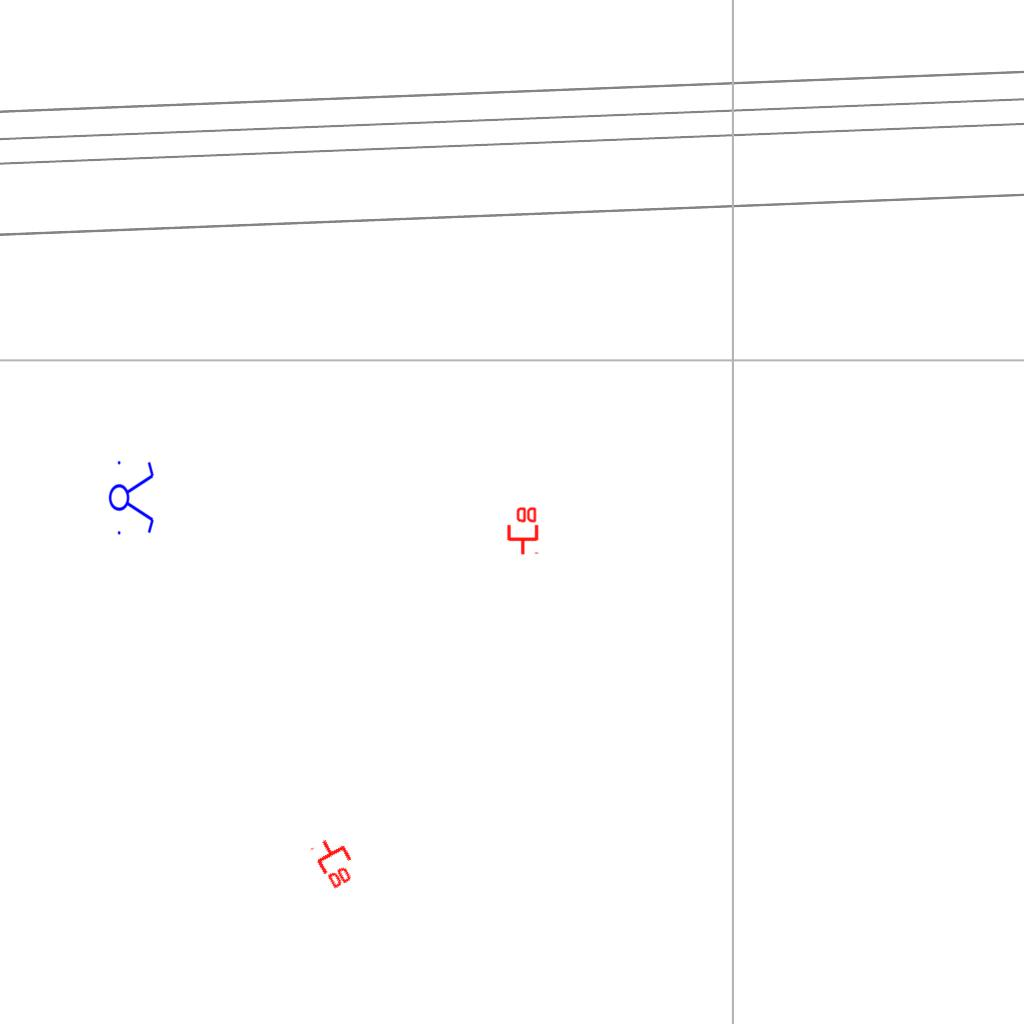Datenanschluss_zweifach: (308, 830, 364, 893), (505, 505, 539, 556)
Serienschalter: (108, 455, 156, 539)
